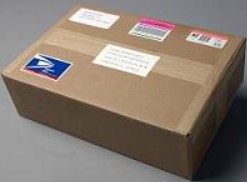stock: (3, 5, 244, 177)
